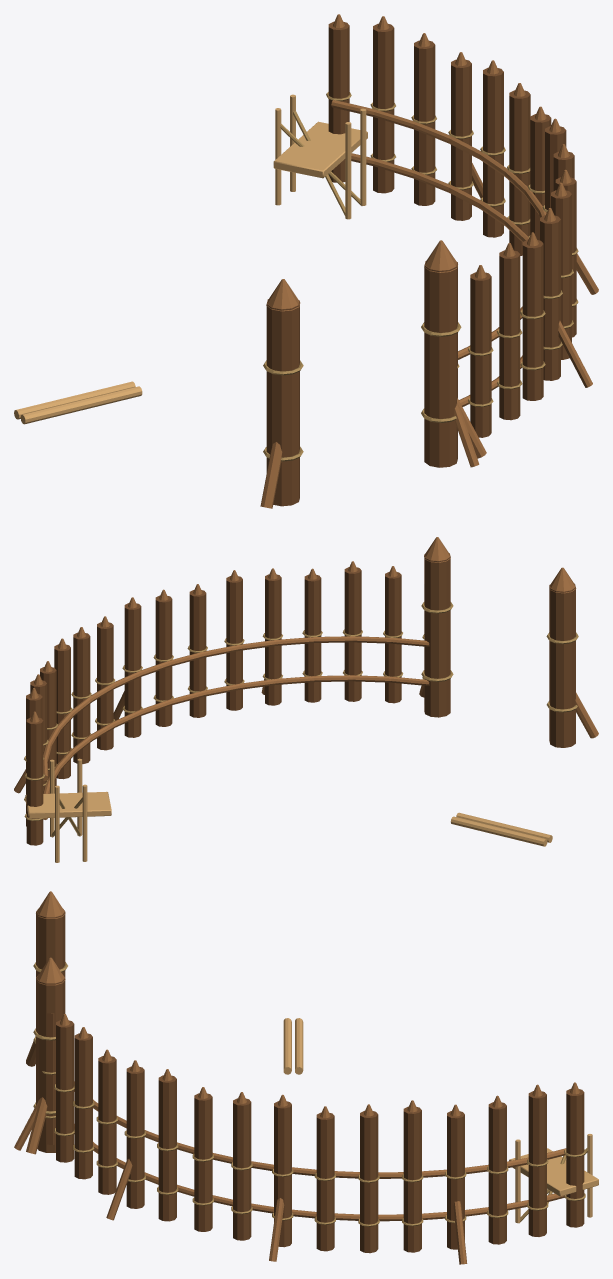
The model's file is fort_stage_1.glb.
3 views of the same model, one above another, from view 1: azimuth 30°, elevation 25°; view 2: azimuth 150°, elevation 25°; view 3: azimuth 270°, elevation 25° (orthographic). The views are drawn at different scales.
Visible parts, largest first — view 1: GateReinforcedPost_1, GateReinforcedPost_-1, PalisadePost_02_Body, PalisadePost_01_Body, PalisadePost_03_Body, PalisadePost_14_Body, PalisadePost_13_Body, PalisadePost_11_Body, PalisadePost_12_Body, PalisadePost_10_Body, PalisadePost_04_Body, Stage1End_ScaffoldPlatform (+11 smaller); view 2: GateReinforcedPost_-1, GateReinforcedPost_1, PalisadePost_02_Body, PalisadePost_08_Body, PalisadePost_07_Body, PalisadePost_15_Body, PalisadePost_05_Body, PalisadePost_03_Body, PalisadePost_06_Body, PalisadePost_10_Body, PalisadePost_01_Body, PalisadePost_04_Body (+7 smaller); view 3: PalisadePost_02_Body, PalisadePost_05_Body, PalisadePost_14_Body, PalisadePost_11_Body, PalisadePost_10_Body, PalisadePost_13_Body, PalisadePost_07_Body, PalisadePost_01_Body, PalisadePost_09_Body, PalisadePost_03_Body, PalisadePost_06_Body, PalisadePost_04_Body (+12 smaller).
Part boxes in pixels (<box>): GateReinforcedPost_1: <box>424,261,457,467</box>; GateReinforcedPost_-1: <box>266,299,299,506</box>; PalisadePost_02_Body: <box>499,250,520,420</box>; PalisadePost_01_Body: <box>470,272,491,437</box>; PalisadePost_03_Body: <box>522,239,543,400</box>; PalisadePost_14_Body: <box>373,23,394,193</box>; PalisadePost_13_Body: <box>414,40,435,205</box>; PalisadePost_11_Body: <box>483,67,503,237</box>; PalisadePost_12_Body: <box>451,59,471,220</box>; PalisadePost_10_Body: <box>509,90,530,255</box>; PalisadePost_04_Body: <box>540,215,560,380</box>; Stage1End_ScaffoldPlatform: <box>273,121,367,178</box>; GateReinforcedPost_-1: <box>549,583,575,747</box>; GateReinforcedPost_1: <box>424,553,450,717</box>; PalisadePost_02_Body: <box>344,567,361,701</box>; PalisadePost_08_Body: <box>124,603,141,737</box>; PalisadePost_07_Body: <box>155,595,172,726</box>; PalisadePost_15_Body: <box>26,717,43,845</box>; PalisadePost_05_Body: <box>226,576,242,710</box>; PalisadePost_03_Body: <box>304,574,321,702</box>; PalisadePost_06_Body: <box>189,590,206,717</box>; PalisadePost_10_Body: <box>73,632,90,763</box>; PalisadePost_01_Body: <box>385,572,401,703</box>; PalisadePost_04_Body: <box>265,574,281,705</box>; PalisadePost_02_Body: <box>74,1033,92,1179</box>; PalisadePost_05_Body: <box>158,1075,176,1221</box>; PalisadePost_14_Body: <box>528,1091,546,1236</box>; PalisadePost_11_Body: <box>403,1106,421,1252</box>; PalisadePost_10_Body: <box>360,1110,378,1253</box>; PalisadePost_13_Body: <box>488,1102,506,1244</box>; PalisadePost_07_Body: <box>233,1098,251,1240</box>; PalisadePost_01_Body: <box>56,1020,74,1162</box>; PalisadePost_09_Body: <box>316,1112,334,1251</box>; PalisadePost_03_Body: <box>98,1056,116,1194</box>; PalisadePost_06_Body: <box>194,1093,212,1231</box>; PalisadePost_04_Body: <box>126,1066,144,1208</box>.
Bounding box in the file's own units: 17.08 × 6.28 × 17.54.
